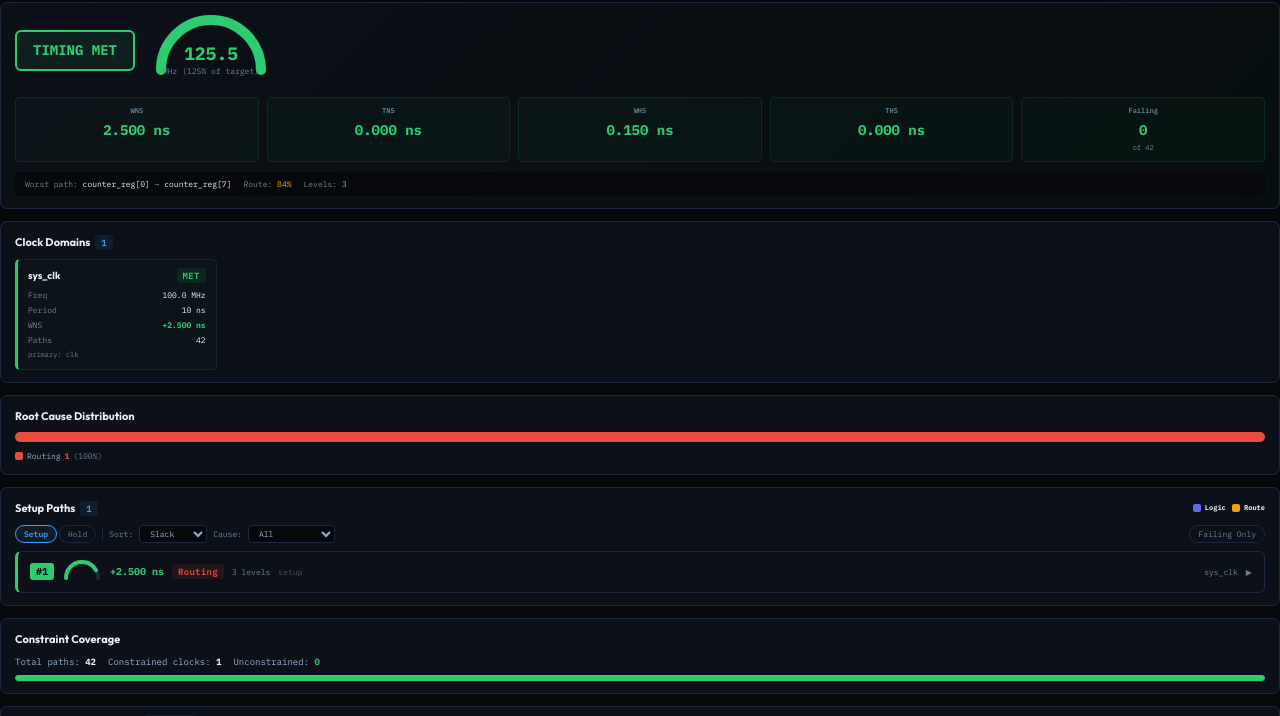
Test: TimingAnalyzer › shows Ask AI button when path is expanded
The width and height of the screenshot is (1280, 716).
Step 1. Click the text "#1" → (42, 572), box [30,563,54,580]
(page scrolled)
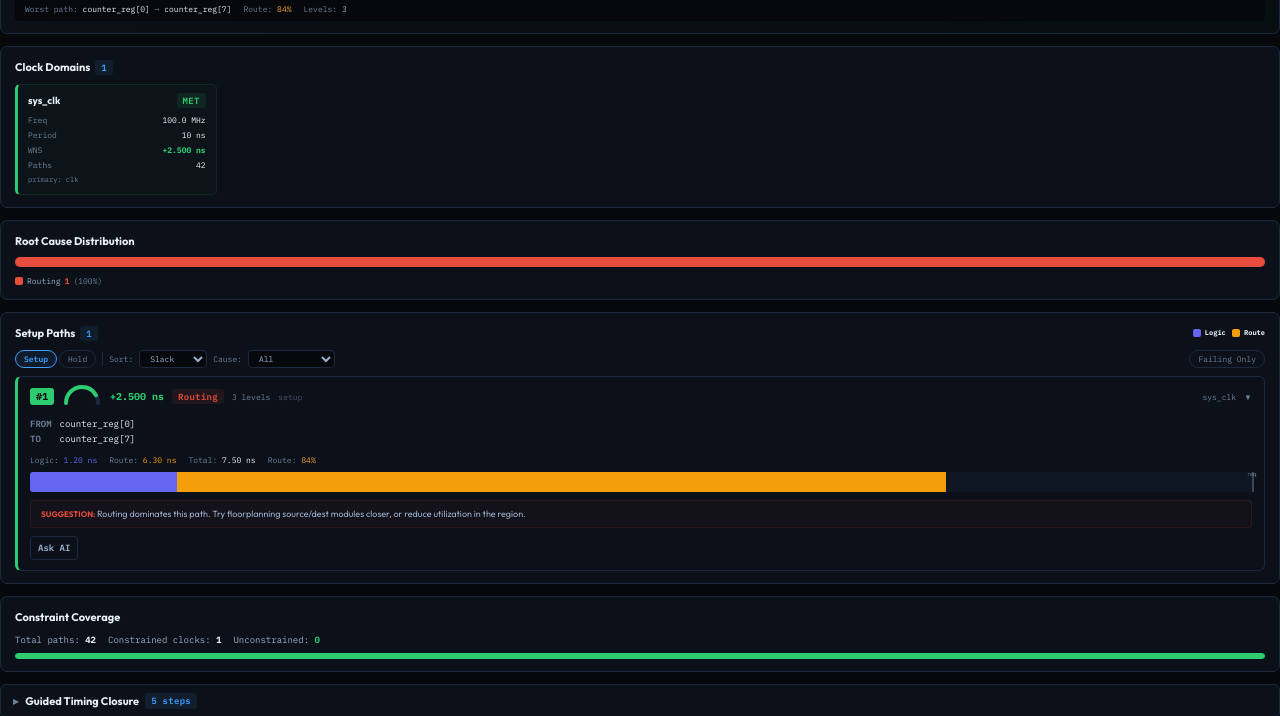
Check: the button "Ask AI" is shown, box [30,536,78,560]
